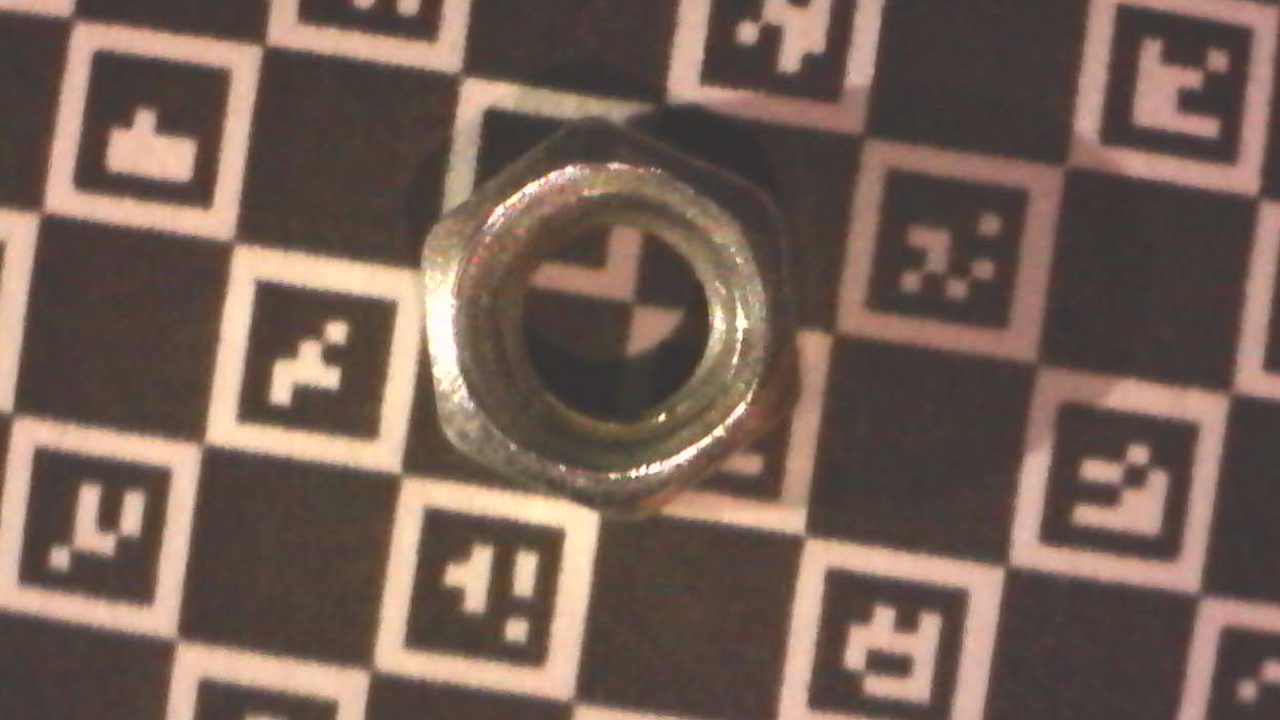Bolt: (417, 109, 803, 527)
